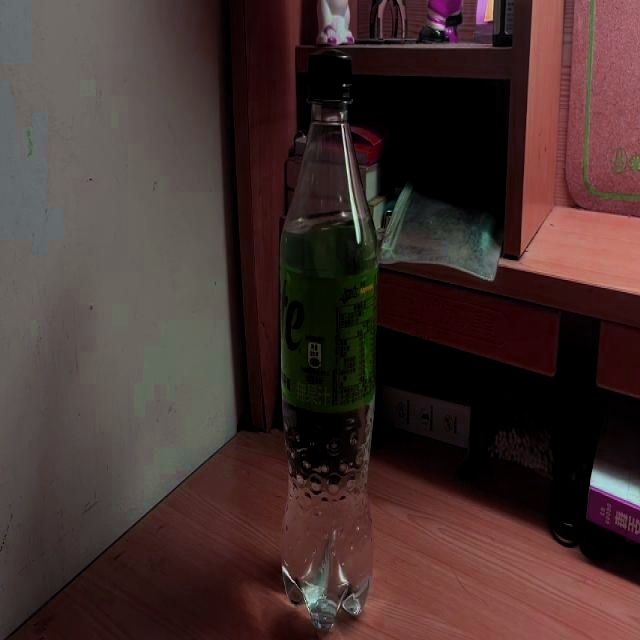Sprite: (276, 52, 380, 635)
